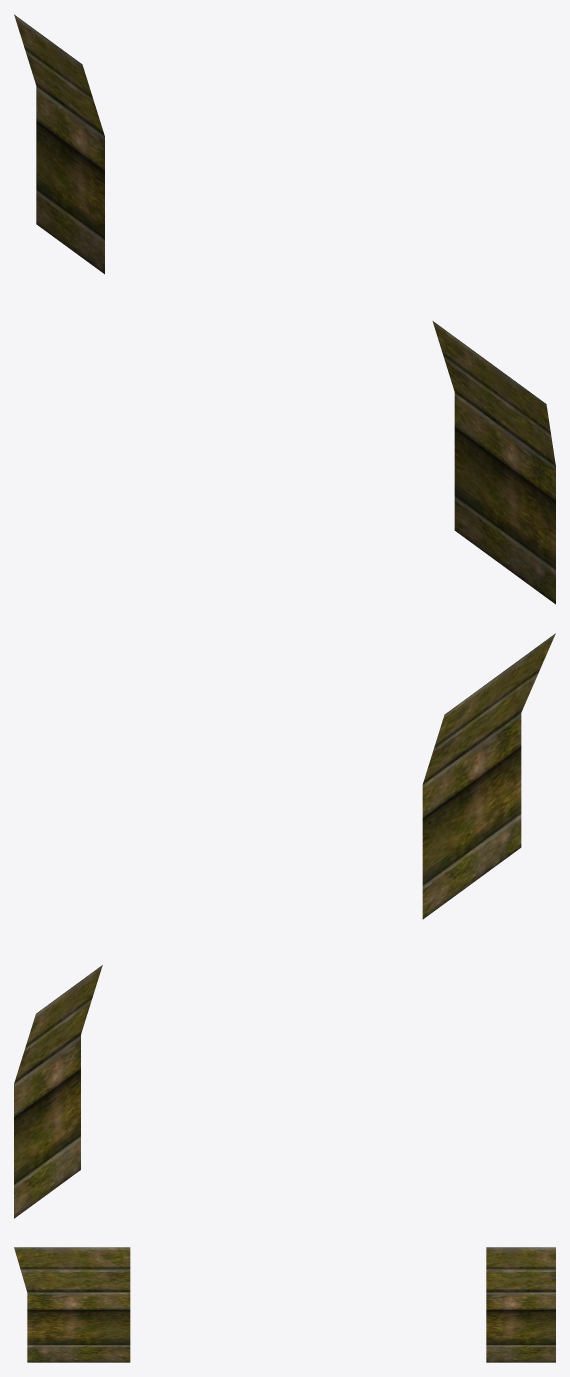
The model's file is OVERHILL_A_01_OBJECT167.fbx.
3 renders of one model, top to bottom at view 1: azimuth 30°, elevation 25°; view 2: azimuth 150°, elevation 25°; view 3: azimuth 270°, elevation 25°, orthographic. The views are drawn at different scales.
Parts seen in each view (by area): view 1: OVERHILL_A_01_OBJECT167; view 2: OVERHILL_A_01_OBJECT167; view 3: OVERHILL_A_01_OBJECT167.
Boxes of the visible parts, box(x1,y1,x2,y2) form: OVERHILL_A_01_OBJECT167: box(14, 14, 555, 604); OVERHILL_A_01_OBJECT167: box(14, 633, 555, 1218); OVERHILL_A_01_OBJECT167: box(14, 1247, 555, 1362).
Bounding box in the file's own units: 1348 × 12361 × 55344.
Materials: 2 (2 with a texture image).
